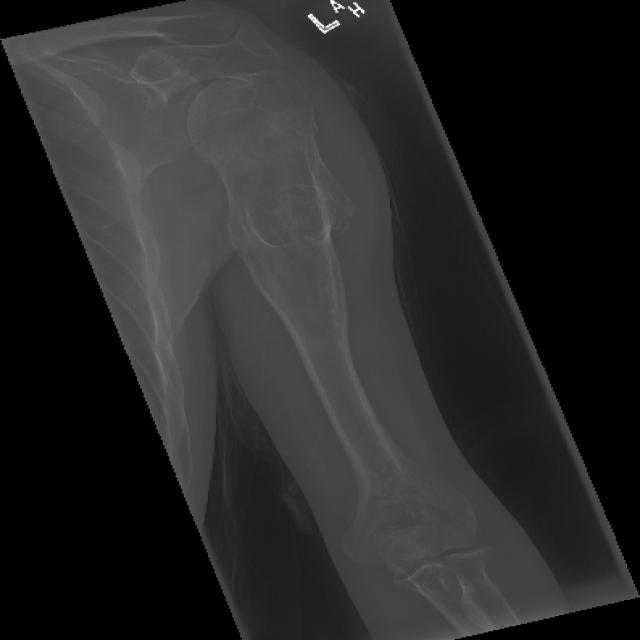humerus fracture: (276, 110, 357, 193)
